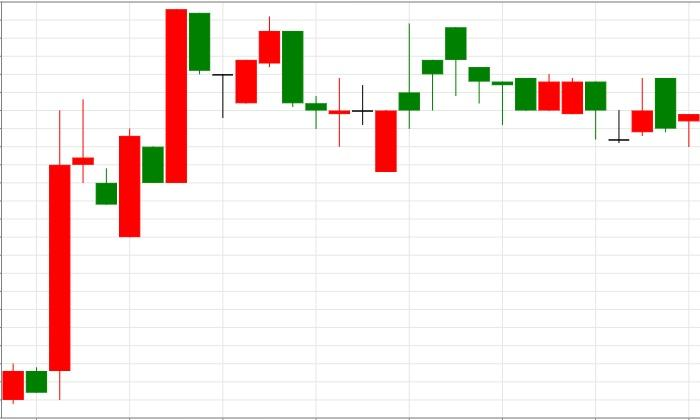hanging_man_fall: (374, 22, 467, 173)
